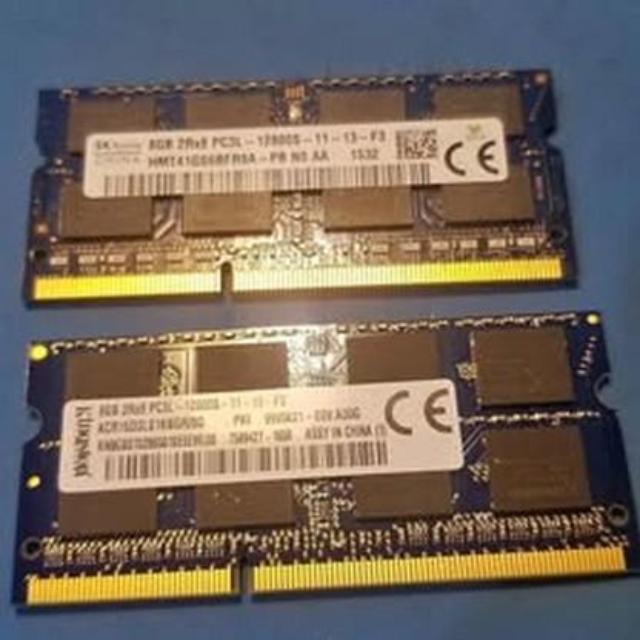RAM: (12, 317, 640, 623), (21, 71, 576, 312)
